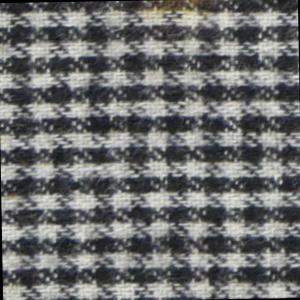Oil Stain: (118, 1, 231, 25)
